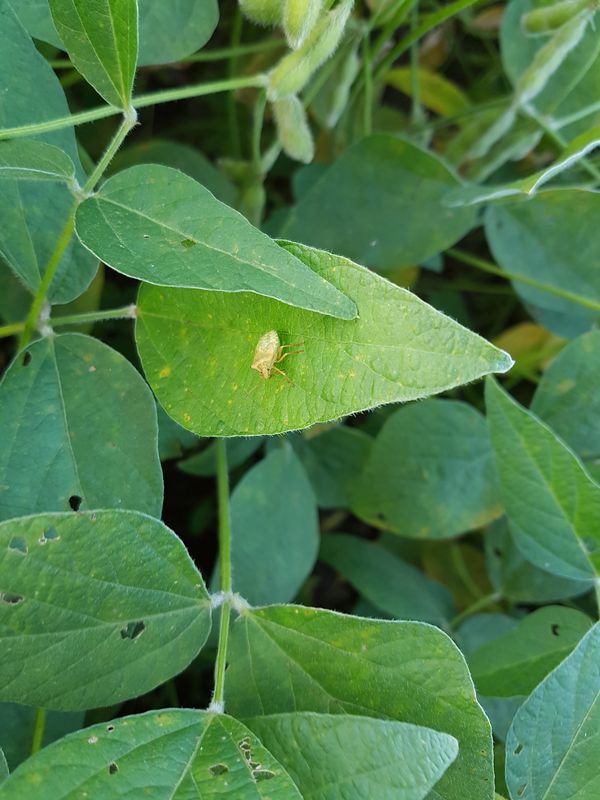Euschistus_heros_ninfa: (239, 325, 309, 390)
